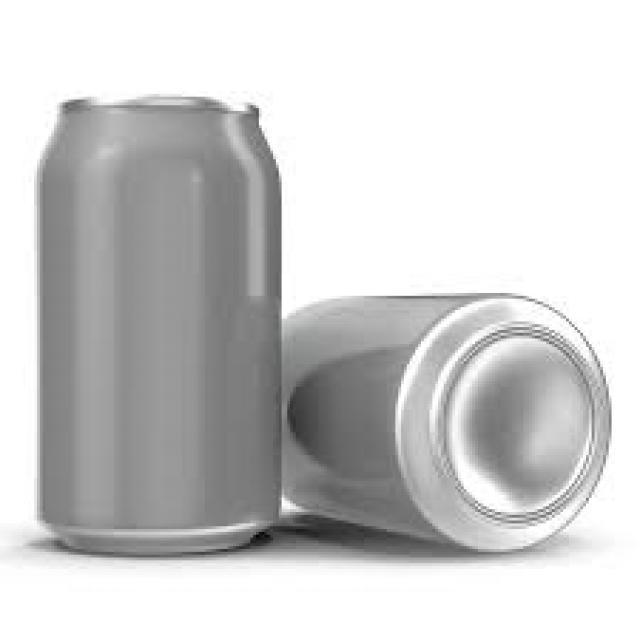recyclable: (36, 92, 284, 556), (285, 293, 608, 553)
